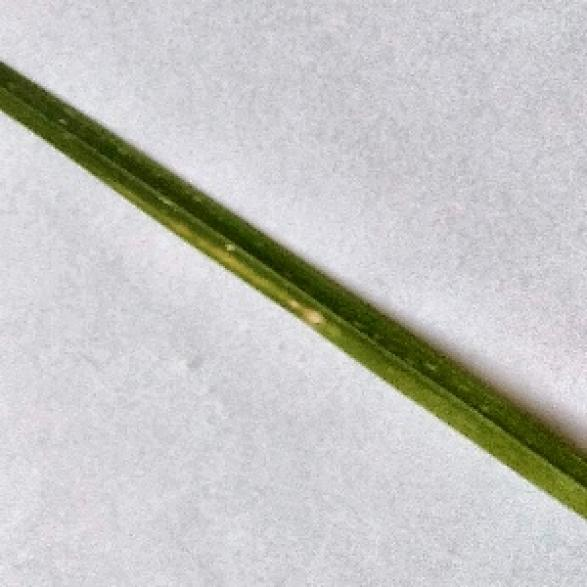Leaf_smut: (118, 143, 343, 336)
